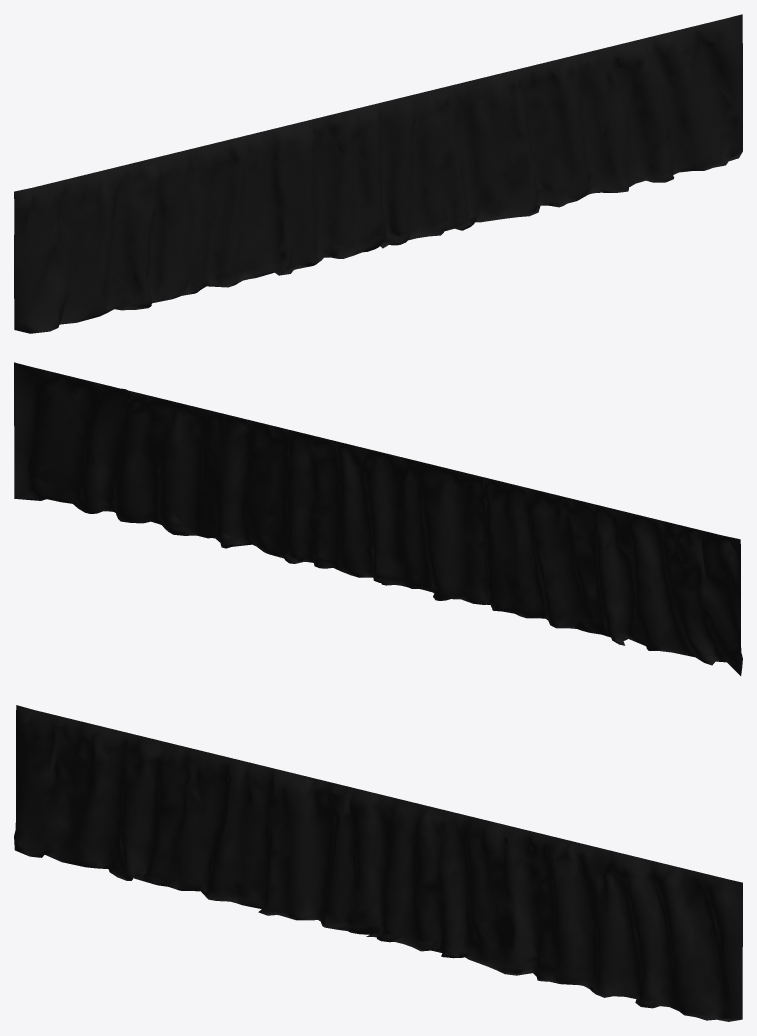
The model's file is StageCurtain01_1.FBX.
3 renders of one model, top to bottom at view 1: azimuth 30°, elevation 25°; view 2: azimuth 150°, elevation 25°; view 3: azimuth 330°, elevation 25°, orthographic.
Visible parts, largest first — view 1: StageCurtain01_1; view 2: StageCurtain01_1; view 3: StageCurtain01_1.
Part boxes in pixels (x1,y1,x2,y2): StageCurtain01_1: [14, 14, 742, 333]; StageCurtain01_1: [14, 362, 742, 675]; StageCurtain01_1: [14, 705, 742, 1021].
Size of the model in its own units: 594 by 108 by 19.49.
